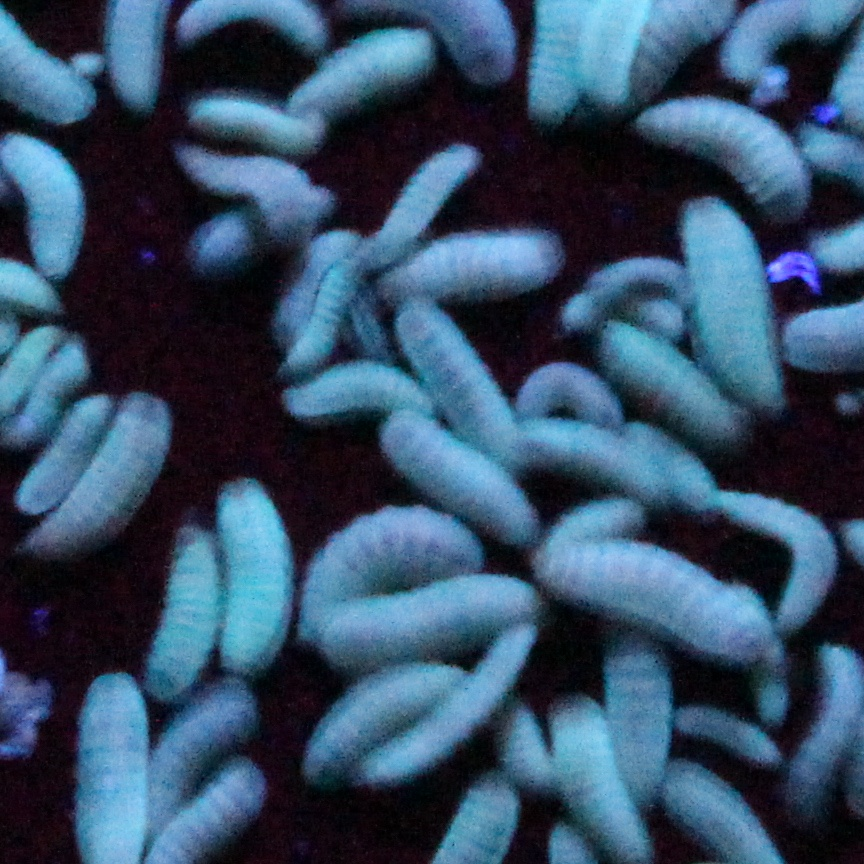larve: (526, 523, 786, 680), (384, 296, 535, 467), (588, 307, 758, 455), (674, 194, 788, 411), (625, 90, 812, 210), (211, 477, 302, 685), (374, 421, 532, 535), (350, 129, 473, 269), (300, 492, 476, 587), (384, 215, 564, 304), (290, 19, 444, 119), (314, 583, 522, 657), (797, 633, 863, 817), (173, 157, 325, 235), (300, 672, 461, 744), (105, 385, 170, 555), (181, 88, 334, 154), (537, 423, 663, 502), (155, 529, 216, 688), (259, 363, 433, 418), (669, 696, 780, 775), (30, 390, 104, 504), (19, 335, 84, 435), (518, 363, 618, 422)
